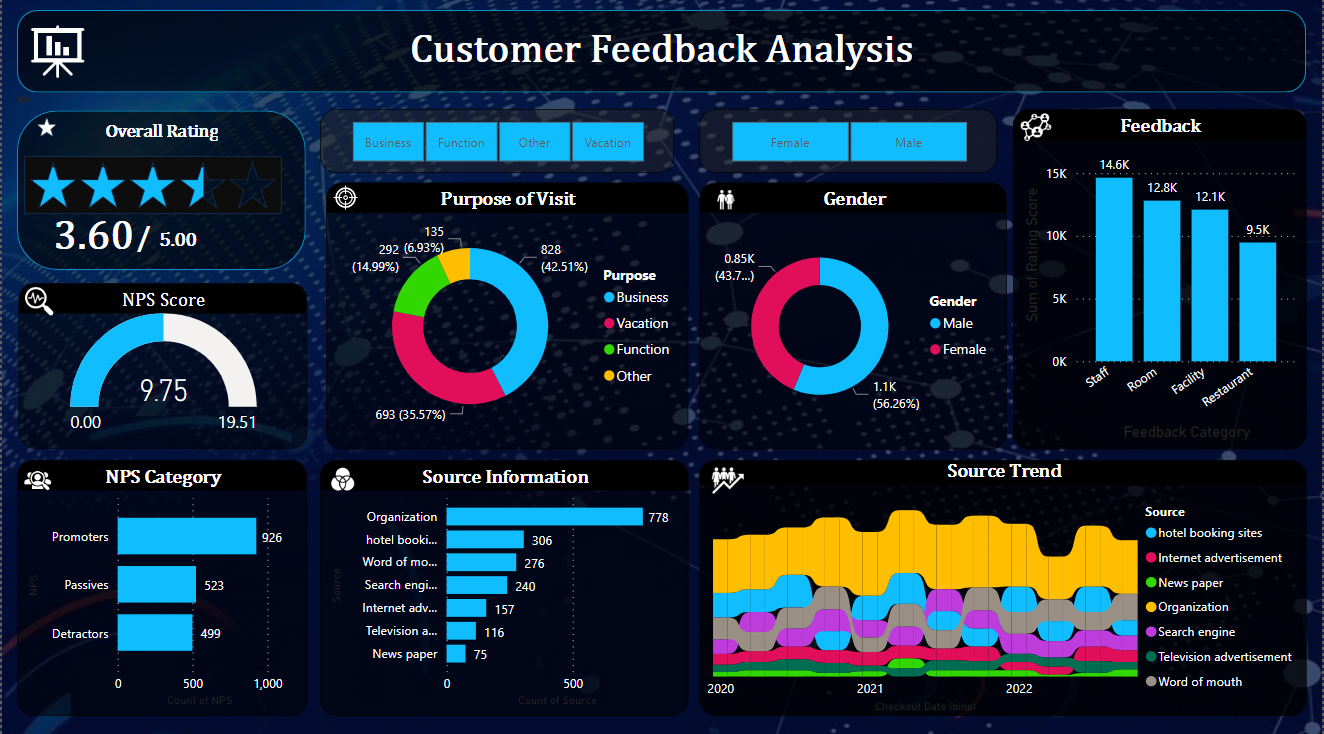

The page's visual inventory and layout, read from the dashboard file:
{"tool":"powerbi","page":{"name":"Page 1","canvas":[1280,720],"ordinal":0},"visuals":[{"type":"shape","box":[15,15,1250,80],"z":0},{"type":"shape","title":"Ov","box":[15.1,95.3,279.9,171],"z":1000},{"type":"slicer","fields":{"Values":["General.Purpose"]},"box":[308.7,110.4,343.5,62],"z":2000},{"type":"slicer","fields":{"Values":["General.Gender"]},"box":[676.3,110.4,289,62],"z":3000},{"type":"gauge","fields":{"Y":["General.NPS Score"]},"box":[16.6,279.9,279.9,160.4],"z":4000},{"type":"clusteredBarChart","title":"NPS Category","fields":{"Category":["General.NPS"],"Y":["CountNonNull(General.NPS)"]},"box":[15.1,450.9,281.4,248.1],"z":5000},{"type":"donutChart","title":"Purpose of Visit","fields":{"Y":["CountNonNull(General.Purpose)"],"Category":["General.Purpose"]},"box":[314.7,181.6,351,258.7],"z":6000},{"type":"donutChart","title":"Gender","fields":{"Category":["General.Gender"],"Y":["CountNonNull(General.Gender)"]},"box":[676.3,181.6,298.1,258.7],"z":7000},{"type":"clusteredBarChart","title":"Source Information","fields":{"Category":["General.Source"],"Y":["CountNonNull(General.Source)"]},"box":[308.7,450.9,357.1,248.1],"z":8000},{"type":"ribbonChart","title":"Source Trend","fields":{"Series":["General.Source"],"Y":["CountNonNull(General.Source)"],"Category":["General.Checkout Date (bins)"]},"box":[676.3,450.9,588.6,248.1],"z":9000},{"type":"clusteredColumnChart","title":"Feedback","fields":{"Category":["Feedback.Feedback Category"],"Y":["Sum(Feedback.Rating Score)"]},"box":[980.4,110.4,284.4,329.8],"z":10000},{"type":"card","fields":{"Values":["Avg(General.Overall Experience)"]},"box":[34.8,195.2,107.4,71.1],"z":11000},{"type":"textbox","box":[125.6,215,169.5,72.6],"z":12000},{"type":"hundredPercentStackedBarChart","fields":{"Y":["Avg(General.Overall Experience)"]},"box":[24.2,99.9,175.5,167.9],"z":13000},{"type":"image","box":[16.6,43.9,260.2,281.4],"z":14000},{"type":"image","box":[680.9,446.3,45.4,46.9],"z":15000},{"type":"image","box":[16.6,15.1,75.7,80.2],"z":16000},{"type":"image","box":[7.6,450.9,54.5,39.3],"z":17000},{"type":"image","box":[12.1,275.4,49.9,43.9],"z":18000},{"type":"image","box":[980.4,99.9,43.9,56],"z":19000},{"type":"image","box":[308.7,447.8,43.9,42.4],"z":20000},{"type":"image","box":[314.7,161.9,37.8,69.6],"z":21000},{"type":"image","box":[677.8,181.6,48.4,33.3],"z":22000},{"type":"image","box":[24.2,112,37.8,31.8],"z":23000}]}

Visuals, with their boxes in screenshot pixels (x1, y1, x2, y2), scaled from the page's 1280x720 canvas onto the 1324x734 screenshot:
shape: x1=16, y1=15, x2=1308, y2=97
"Ov" shape: x1=16, y1=97, x2=305, y2=271
slicer - General.Purpose: x1=319, y1=113, x2=675, y2=176
slicer - General.Gender: x1=700, y1=113, x2=998, y2=176
gauge - General.NPS Score: x1=17, y1=285, x2=307, y2=449
"NPS Category" clusteredBarChart: x1=16, y1=460, x2=307, y2=713
"Purpose of Visit" donutChart: x1=326, y1=185, x2=689, y2=449
"Gender" donutChart: x1=700, y1=185, x2=1008, y2=449
"Source Information" clusteredBarChart: x1=319, y1=460, x2=689, y2=713
"Source Trend" ribbonChart: x1=700, y1=460, x2=1308, y2=713
"Feedback" clusteredColumnChart: x1=1014, y1=113, x2=1308, y2=449
card - Avg(General.Overall Experience): x1=36, y1=199, x2=147, y2=271
textbox: x1=130, y1=219, x2=305, y2=293
hundredPercentStackedBarChart - Avg(General.Overall Experience): x1=25, y1=102, x2=207, y2=273
image: x1=17, y1=45, x2=286, y2=332
image: x1=704, y1=455, x2=751, y2=503
image: x1=17, y1=15, x2=95, y2=97
image: x1=8, y1=460, x2=64, y2=500
image: x1=13, y1=281, x2=64, y2=326
image: x1=1014, y1=102, x2=1060, y2=159
image: x1=319, y1=457, x2=365, y2=500
image: x1=326, y1=165, x2=365, y2=236
image: x1=701, y1=185, x2=751, y2=219
image: x1=25, y1=114, x2=64, y2=147
